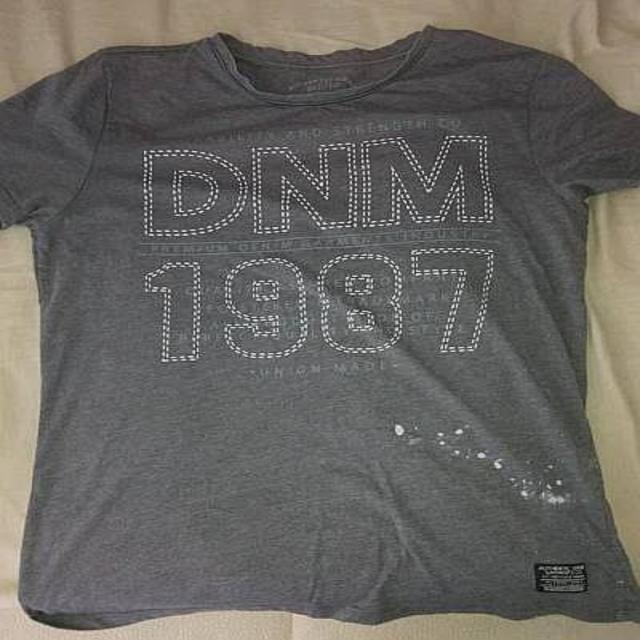T_SHIRT: (3, 20, 636, 635)
